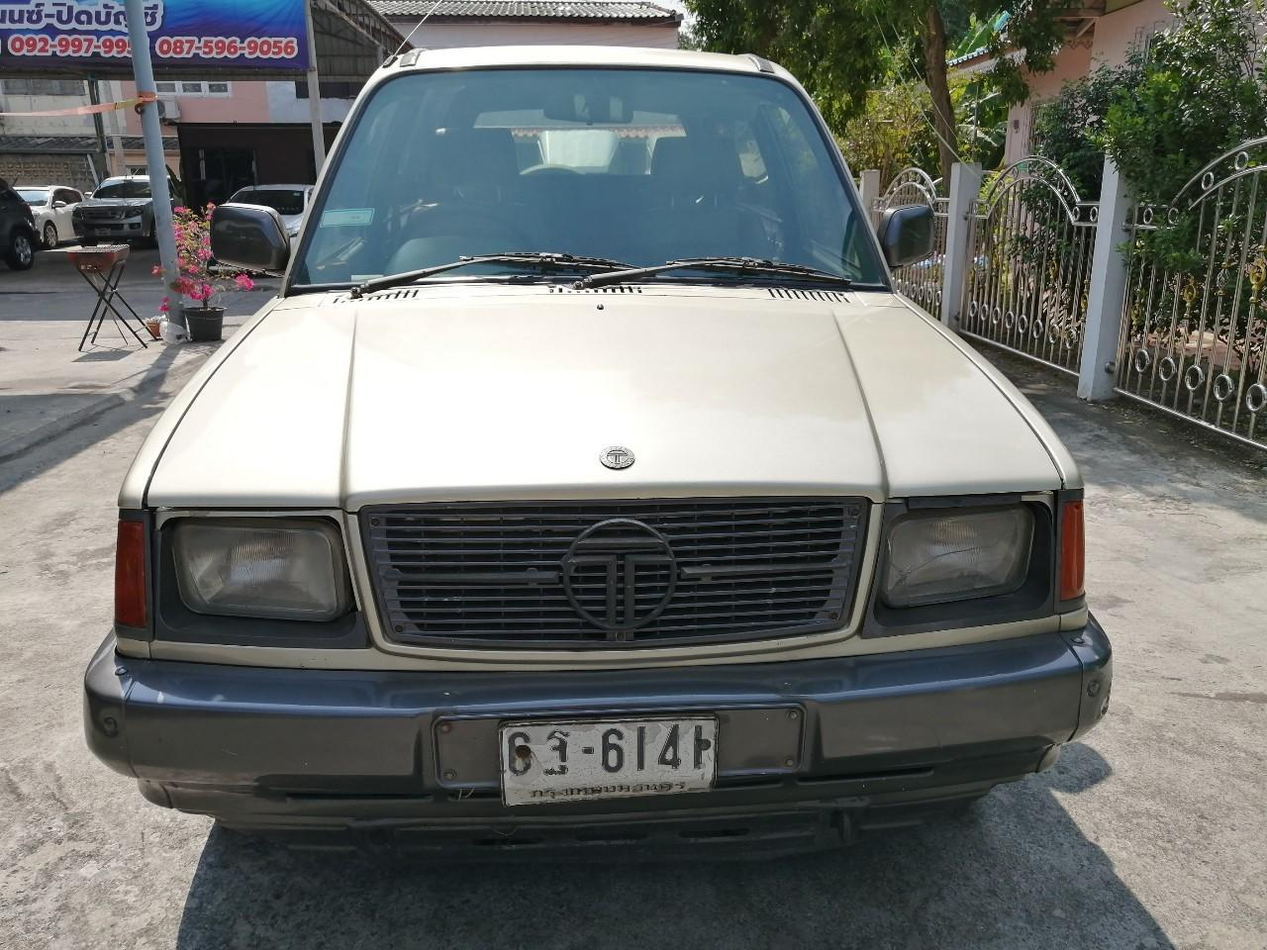license-plate: (495, 710, 725, 811)
